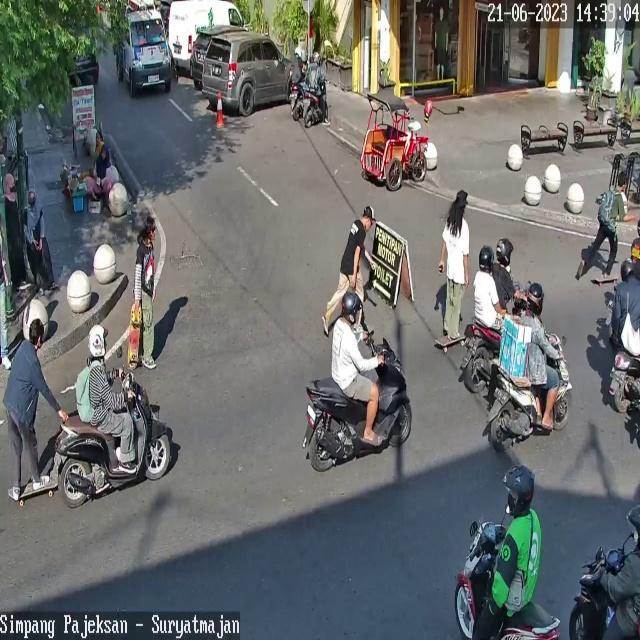bus: (54, 372, 172, 507), (304, 336, 412, 472), (455, 522, 563, 640), (486, 333, 573, 451), (567, 546, 626, 640), (461, 317, 502, 394), (608, 348, 640, 413), (301, 74, 327, 128), (290, 82, 303, 119)
motorcycle: (201, 30, 293, 116), (166, 0, 245, 67), (114, 10, 172, 98), (191, 28, 211, 82)
